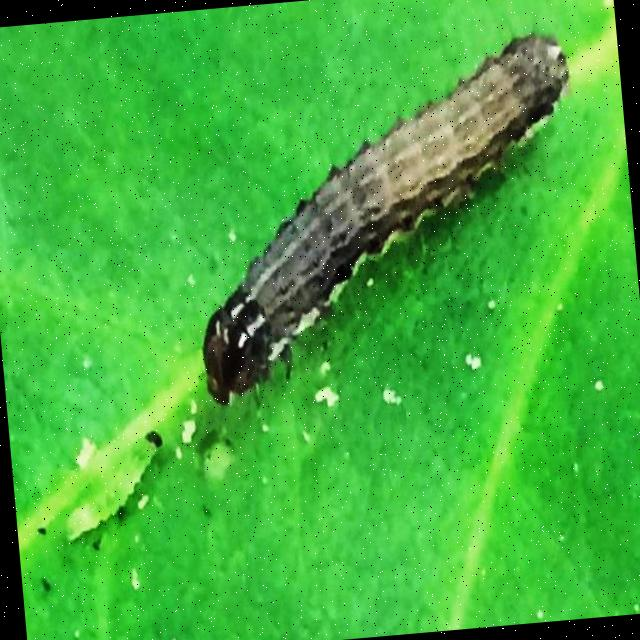worm: (176, 27, 597, 409)
